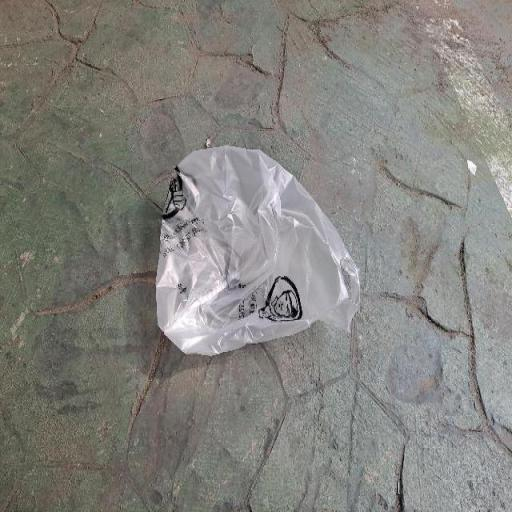plastic-bag: (150, 142, 361, 360)
